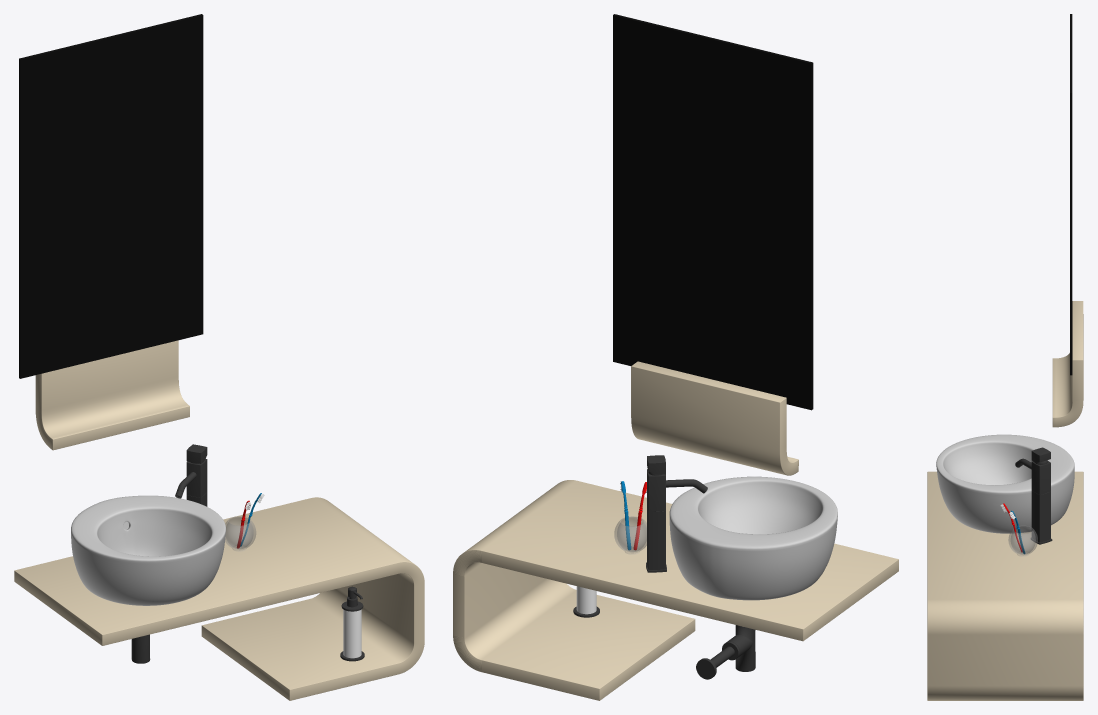
Rendered from SET_14.fbx.
3 views of the same model, side by side, from view 1: azimuth 30°, elevation 25°; view 2: azimuth 150°, elevation 25°; view 3: azimuth 270°, elevation 25° (orthographic). The views are drawn at different scales.
Parts seen in each view (by area): view 1: Obj_03, Obj_01, Obj_04, Obj_02, Obj_14, Obj_19, Obj_08; view 2: Obj_03, Obj_01, Obj_04, Obj_02, Obj_08, Obj_18, Obj_19; view 3: Obj_01, Obj_04, Obj_02, Obj_08, Obj_03, Obj_19.
Boxes of the visible parts, x1,y1,x2,y2 form: Obj_03: [19, 14, 203, 378]; Obj_01: [14, 497, 424, 700]; Obj_04: [71, 495, 225, 605]; Obj_02: [35, 340, 189, 450]; Obj_14: [343, 609, 361, 658]; Obj_19: [225, 516, 255, 551]; Obj_08: [186, 459, 207, 506]; Obj_03: [613, 14, 813, 410]; Obj_01: [453, 480, 898, 700]; Obj_04: [669, 476, 837, 600]; Obj_02: [631, 361, 798, 475]; Obj_08: [647, 469, 665, 569]; Obj_18: [696, 625, 755, 679]; Obj_19: [614, 516, 646, 554]; Obj_01: [927, 471, 1083, 700]; Obj_04: [936, 434, 1074, 533]; Obj_02: [1052, 301, 1083, 427]; Obj_08: [1031, 461, 1050, 542]; Obj_03: [1070, 14, 1072, 375]; Obj_19: [1008, 526, 1037, 556].
Bounding box in the file's own units: 418 × 775 × 197.
